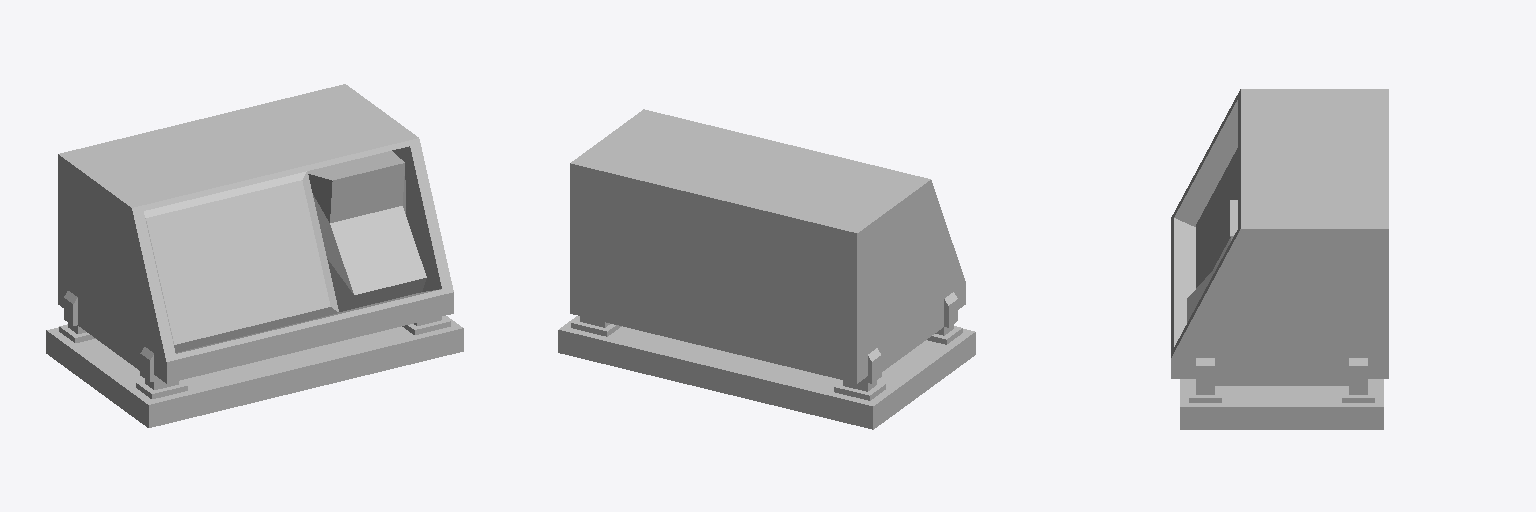
Rendered from computer_brutalist_monitor.obj.
3 renders of one model, left to right at view 1: azimuth 30°, elevation 25°; view 2: azimuth 150°, elevation 25°; view 3: azimuth 270°, elevation 25°, orthographic.
Parts seen in each view (by area): view 1: Cube.001; view 2: Cube.001; view 3: Cube.001.
Boxes of the visible parts, x1,y1,x2,y2 form: Cube.001: [46, 84, 463, 427]; Cube.001: [558, 109, 975, 429]; Cube.001: [1171, 89, 1388, 429].
Size of the model in its own units: 0.5 by 0.2952 by 0.2983.